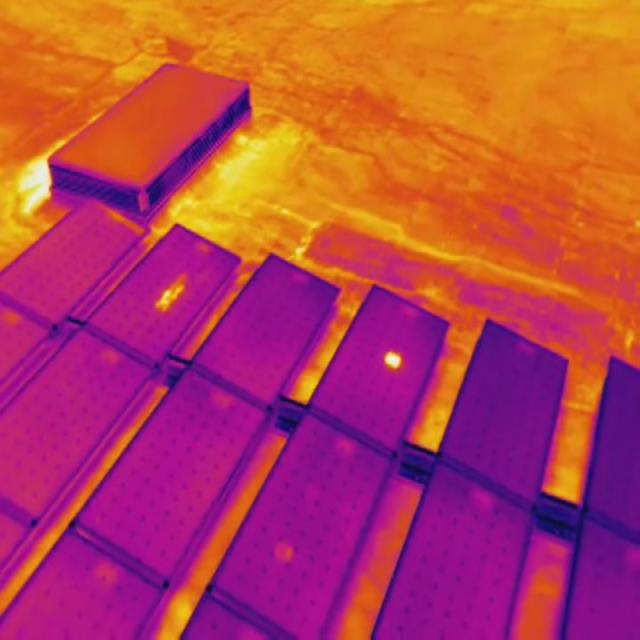Orange-Spots: (152, 270, 187, 311), (276, 541, 294, 562), (384, 348, 401, 369)
